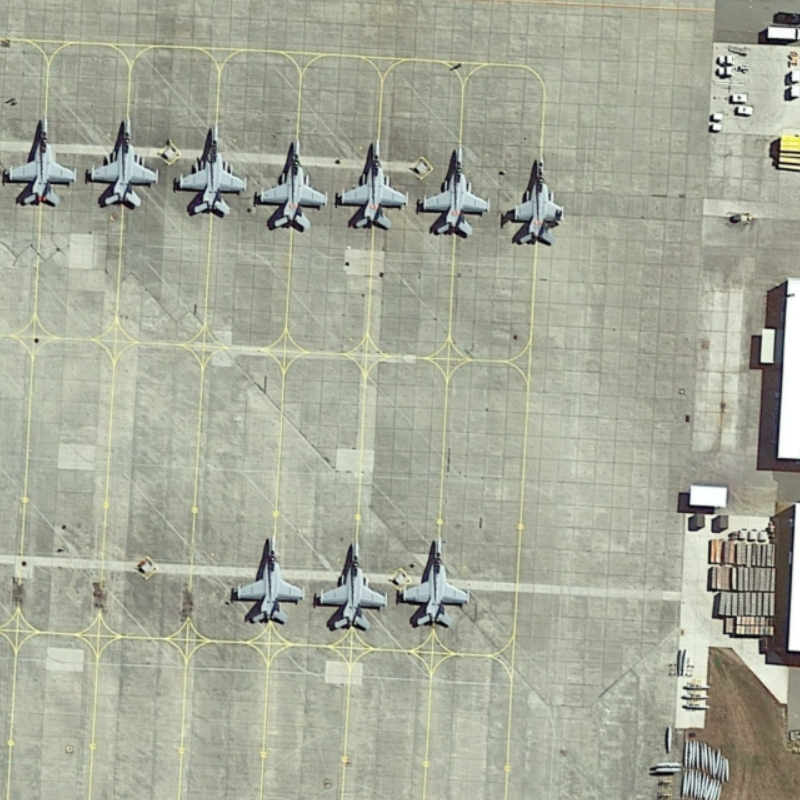A16: (415, 136, 492, 250), (251, 133, 332, 239), (396, 530, 478, 634), (332, 134, 413, 239), (225, 528, 310, 628), (175, 120, 252, 229), (313, 530, 392, 636), (84, 114, 164, 216), (4, 112, 85, 211), (505, 145, 568, 247)
